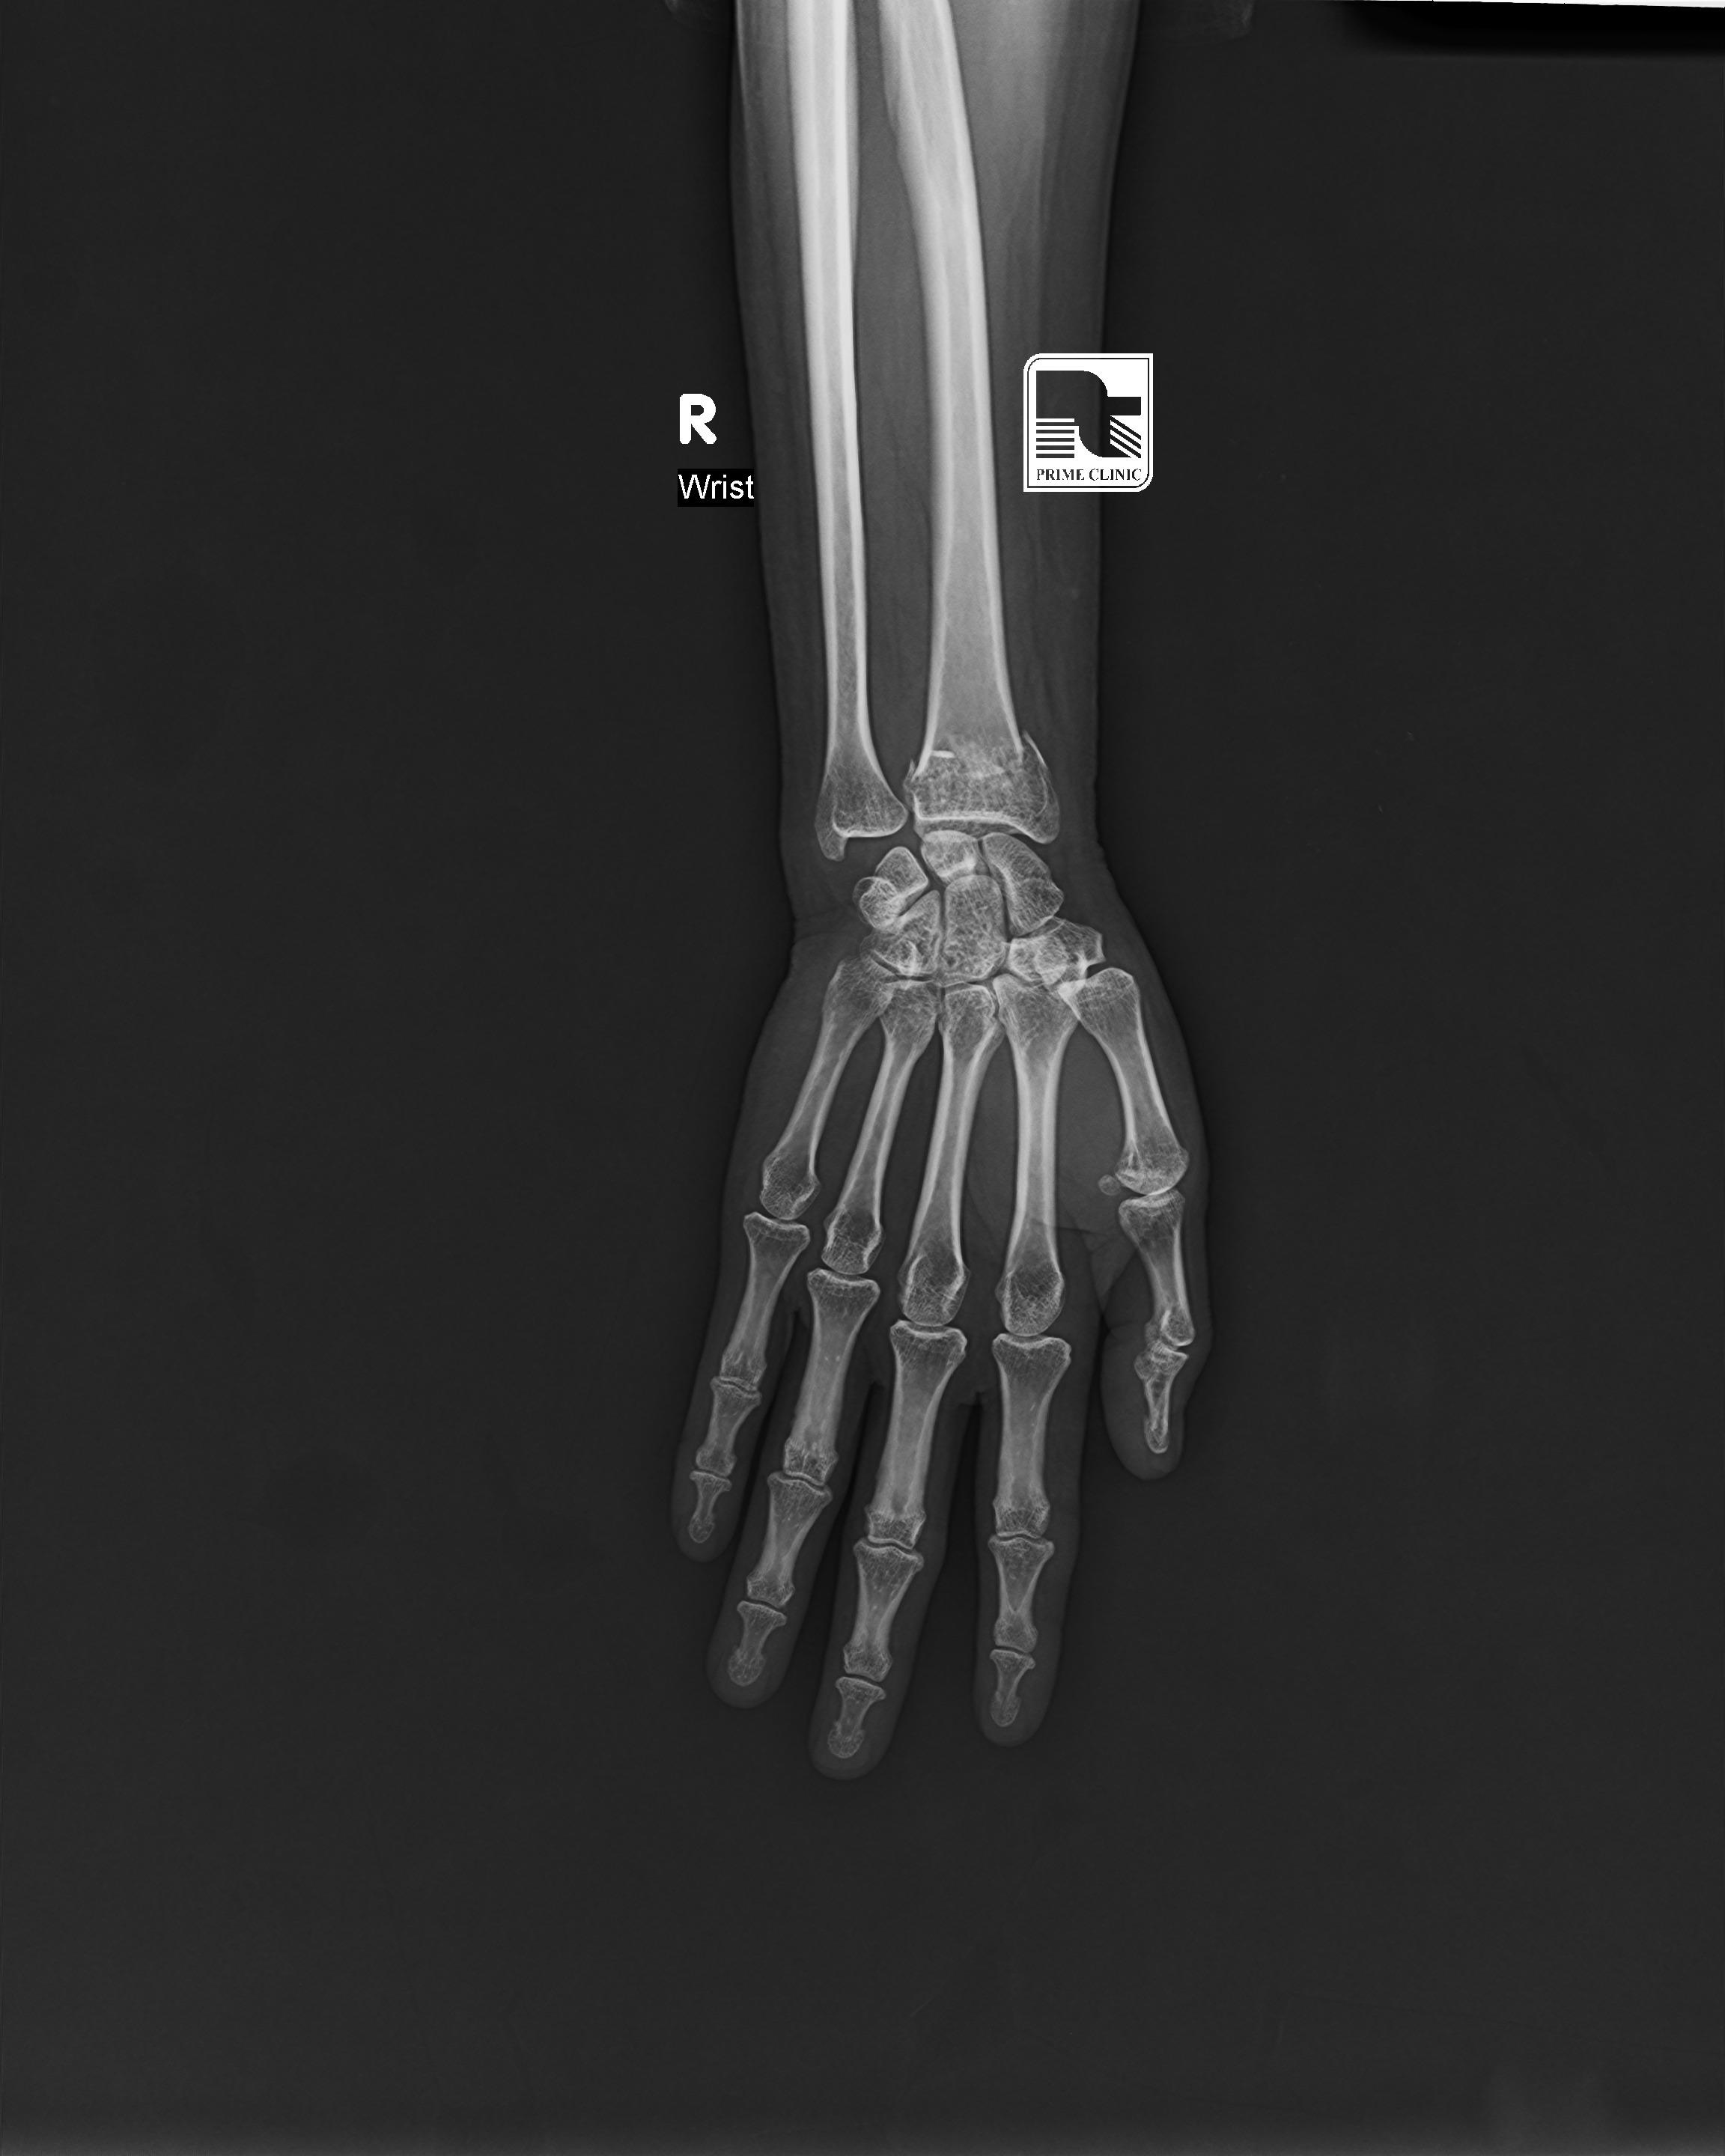fractured: (887, 723, 1067, 850)
